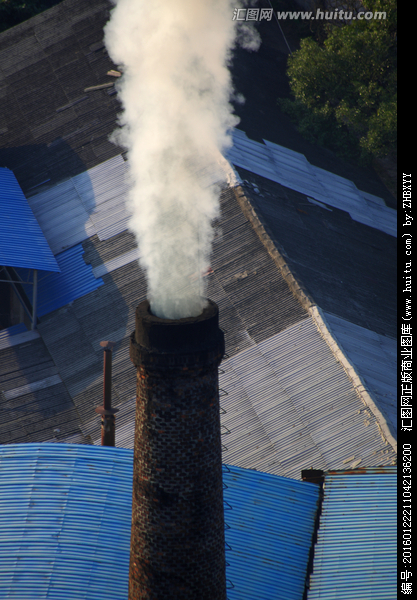dust: (92, 21, 252, 329)
